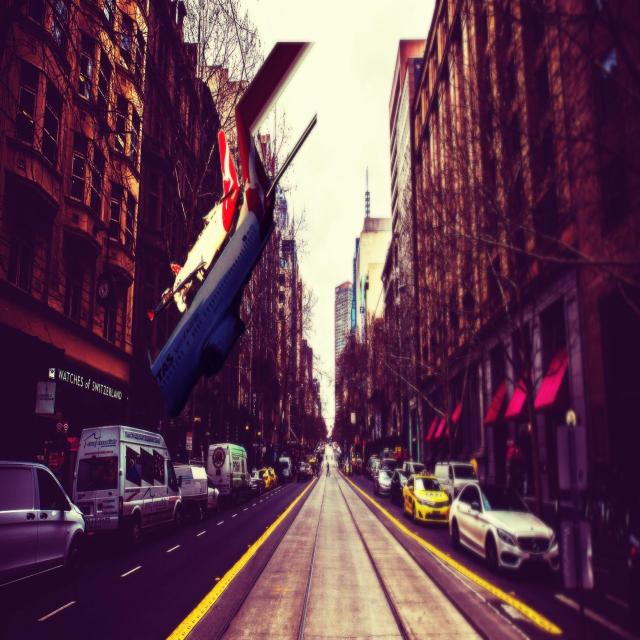airplane: (146, 39, 317, 417)
